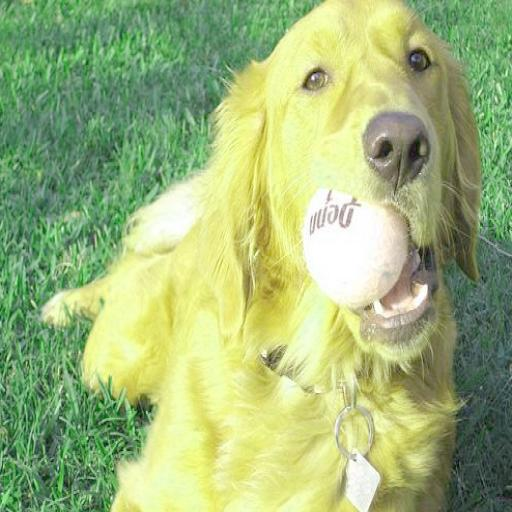dog_face: (216, 6, 485, 359)
